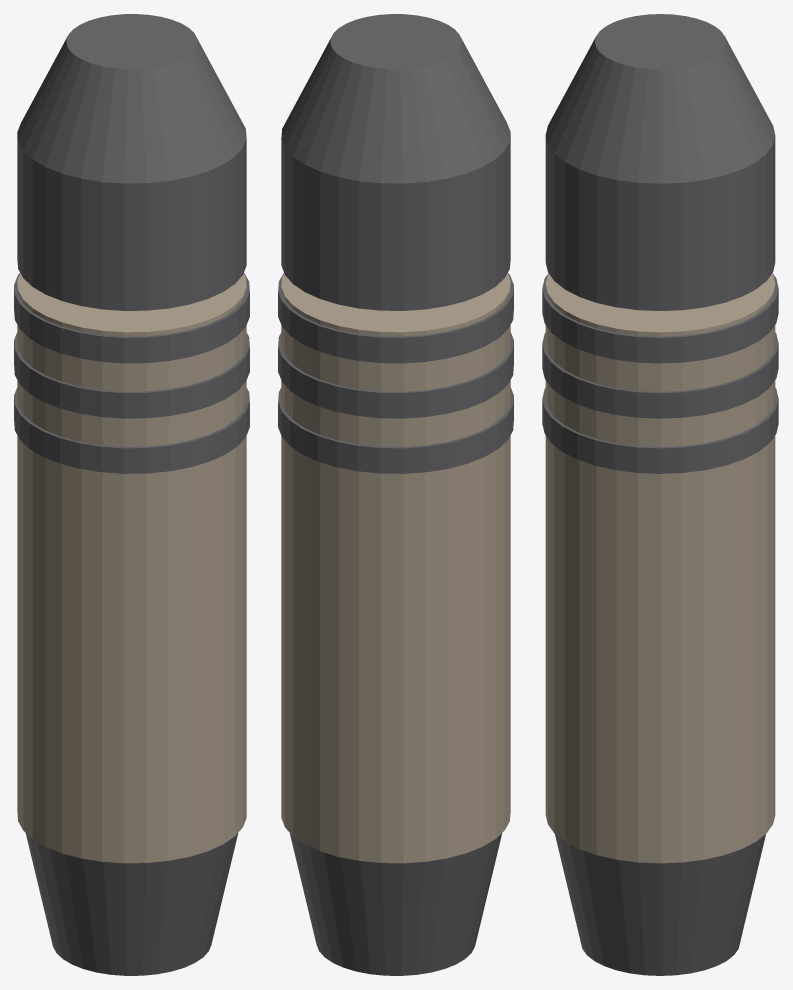
3 views of the same model, side by side, from view 1: azimuth 30°, elevation 25°; view 2: azimuth 150°, elevation 25°; view 3: azimuth 270°, elevation 25° (orthographic).
Visible parts, largest first — view 1: ev-re20; view 2: ev-re20; view 3: ev-re20.
Boxes of the visible parts, left/top/right/bottom form: ev-re20: left=14, top=14, right=249, bottom=975; ev-re20: left=278, top=14, right=513, bottom=975; ev-re20: left=542, top=14, right=778, bottom=975.
Bounding box in the file's own units: 0.0504 × 0.212 × 0.0504.
